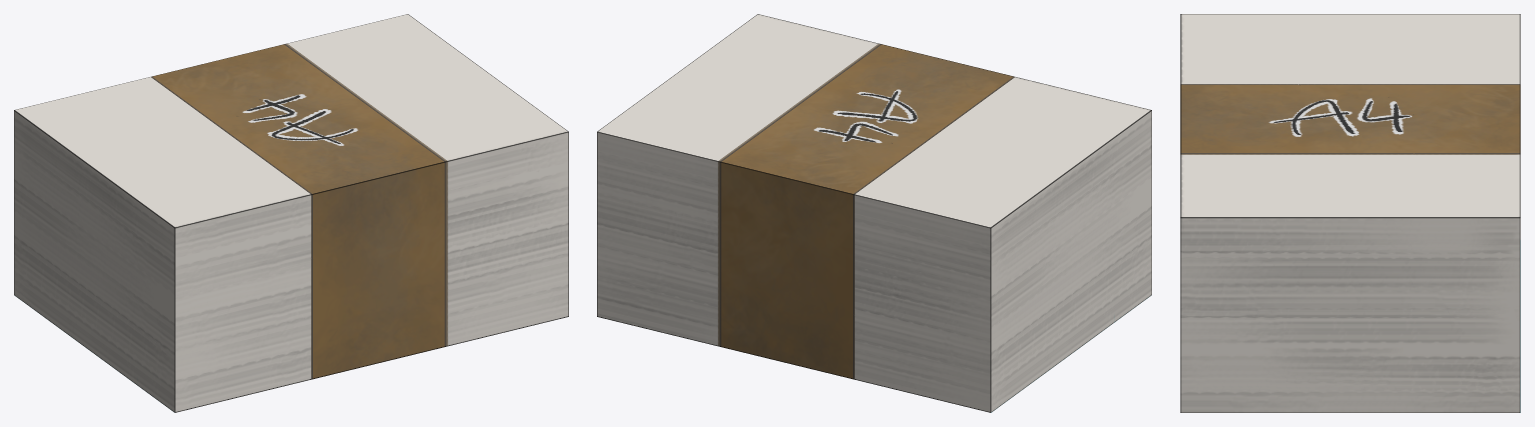
Rendered from paper_ream.glb.
3 renders of one model, left to right at view 1: azimuth 30°, elevation 25°; view 2: azimuth 150°, elevation 25°; view 3: azimuth 270°, elevation 25°, orthographic. The views are drawn at different scales.
Visible parts, largest first — view 1: Cube; view 2: Cube; view 3: Cube.
Part boxes in pixels (x1,y1,x2,y2): Cube: (14,14,568,412); Cube: (597,14,1151,412); Cube: (1180,14,1520,412).
Bounding box in the file's own units: 0.891 × 0.4 × 0.63.
1 material, 1 textured.
